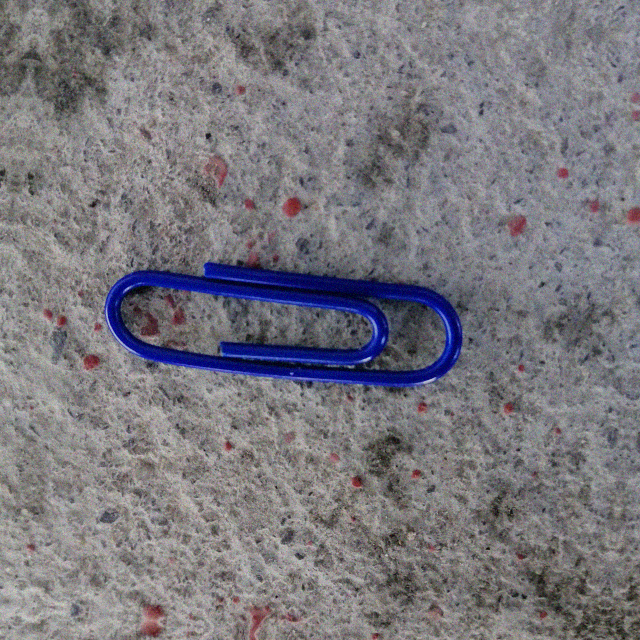pin: (105, 253, 461, 399)
